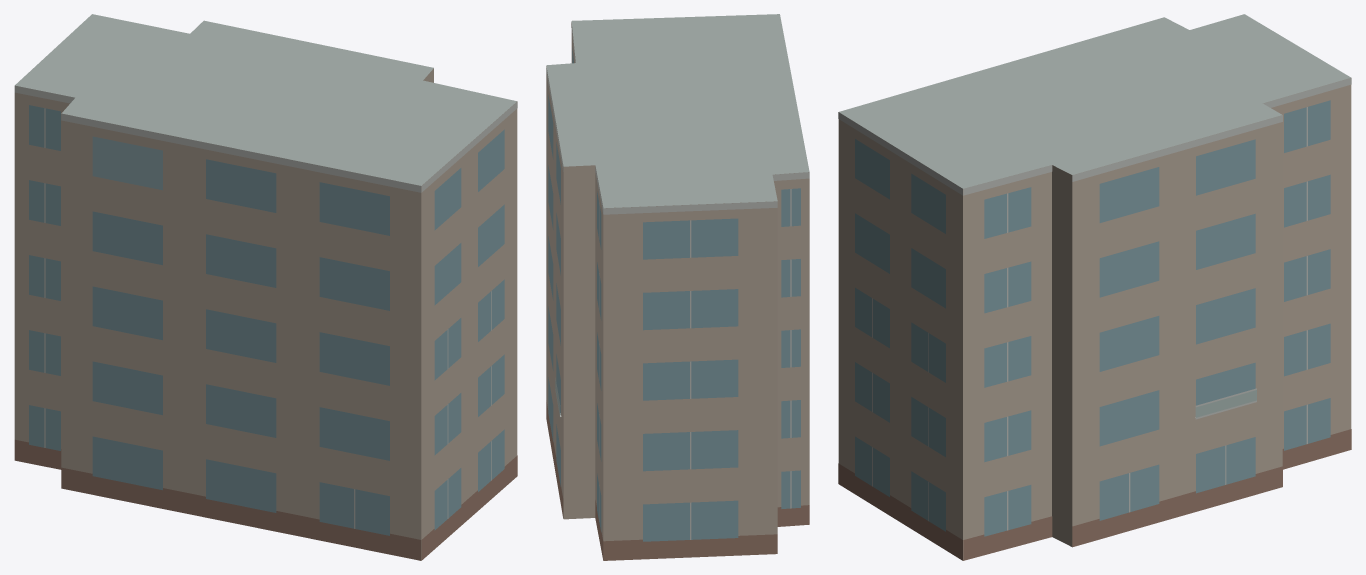
File: survey-upis-32881728.glb
3 renders of one model, left to right at view 1: azimuth 30°, elevation 25°; view 2: azimuth 150°, elevation 25°; view 3: azimuth 270°, elevation 25°, orthographic. The views are drawn at different scales.
Visible parts, largest first — view 1: survey-upis-32881728.tmp; view 2: survey-upis-32881728.tmp; view 3: survey-upis-32881728.tmp.
Part boxes in pixels (x1,y1,x2,y2): survey-upis-32881728.tmp: (14, 14, 517, 560); survey-upis-32881728.tmp: (546, 14, 809, 560); survey-upis-32881728.tmp: (838, 14, 1351, 560).
Bounding box in the file's own units: 13.31 × 13.2 × 16.5.
